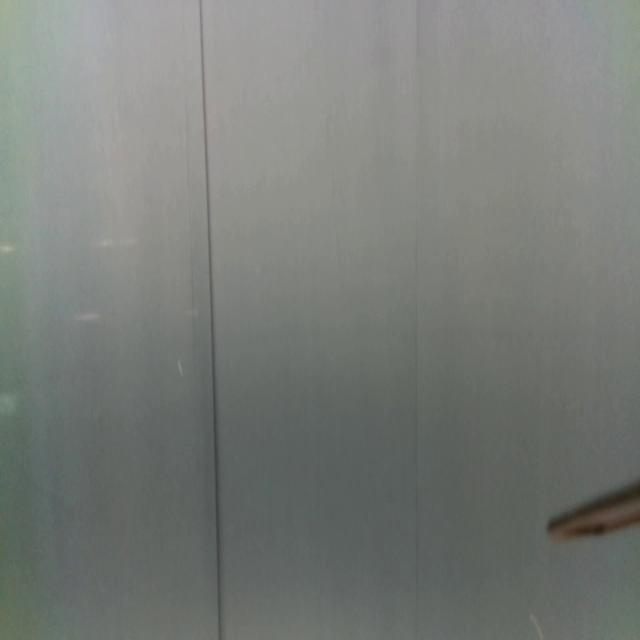crease: (198, 0, 222, 640), (409, 0, 420, 638), (179, 1, 197, 377)
